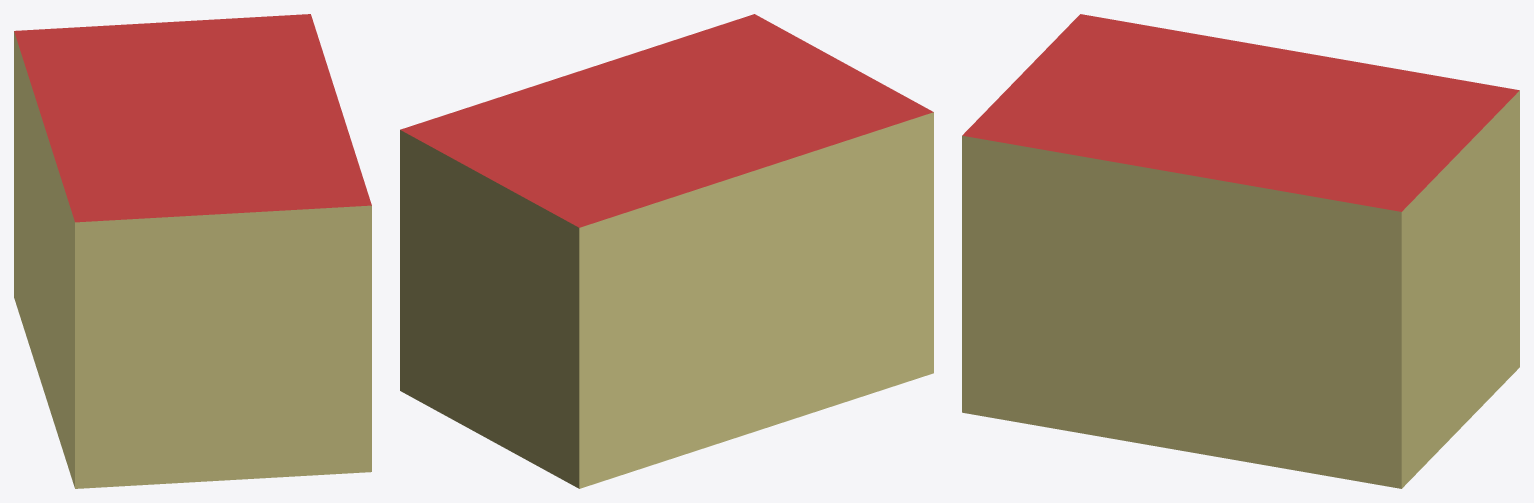
3 renders of one model, left to right at view 1: azimuth 30°, elevation 25°; view 2: azimuth 150°, elevation 25°; view 3: azimuth 270°, elevation 25°, orthographic. The views are drawn at different scales.
Parts seen in each view (by area): view 1: group_4, group_3; view 2: group_4, group_3; view 3: group_4, group_3.
Boxes of the visible parts, x1,y1,x2,y2 form: group_4: [14, 31, 371, 488]; group_3: [14, 14, 371, 222]; group_4: [400, 112, 933, 488]; group_3: [400, 14, 933, 227]; group_4: [962, 90, 1519, 488]; group_3: [962, 14, 1519, 211].
Bounding box in the file's own units: 8.18 × 9.74 × 5.33.
